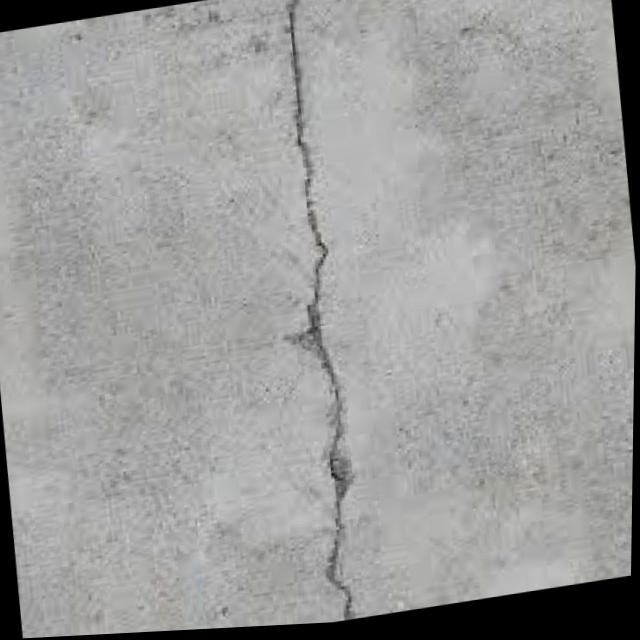Crack: (241, 0, 392, 630)
